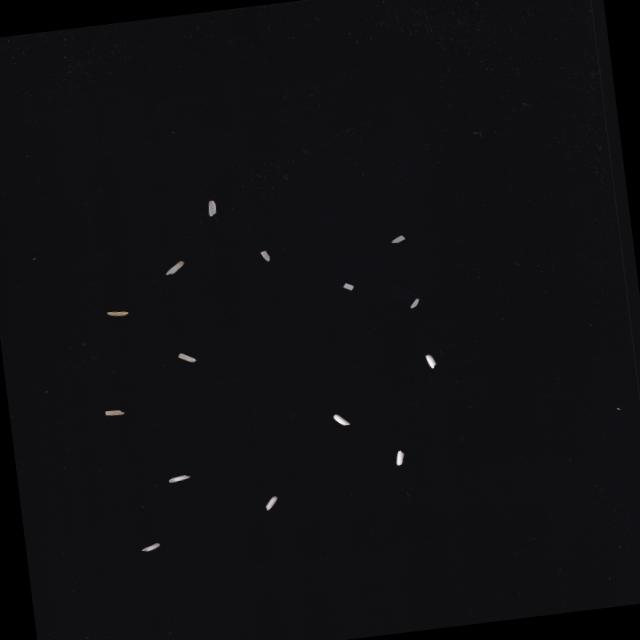Chalky: (166, 473, 192, 483), (264, 495, 280, 511), (140, 542, 161, 552)
Not: (163, 260, 186, 276), (333, 412, 350, 427), (176, 352, 196, 364), (106, 308, 129, 318), (394, 450, 406, 466), (206, 200, 217, 217), (425, 354, 437, 369), (104, 408, 125, 416), (390, 234, 406, 244), (260, 249, 271, 262), (408, 298, 421, 308), (342, 282, 354, 290)
